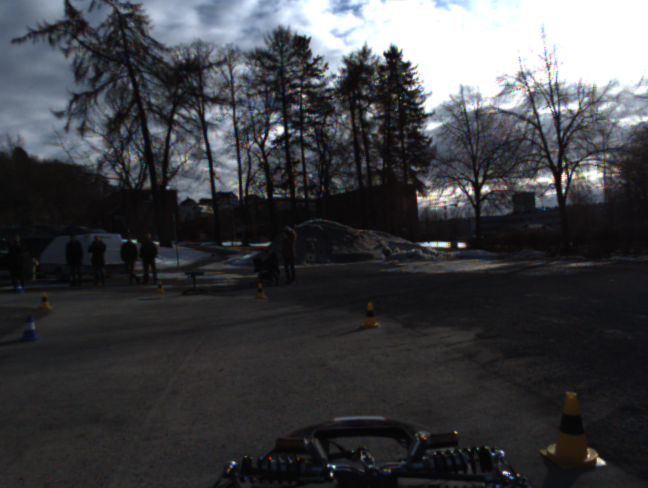cone-small-blue: (18, 314, 41, 341), (15, 281, 25, 295)
cone-small-yellow: (540, 391, 607, 469), (360, 301, 382, 329), (37, 290, 52, 310), (253, 283, 267, 299), (155, 280, 166, 294)
